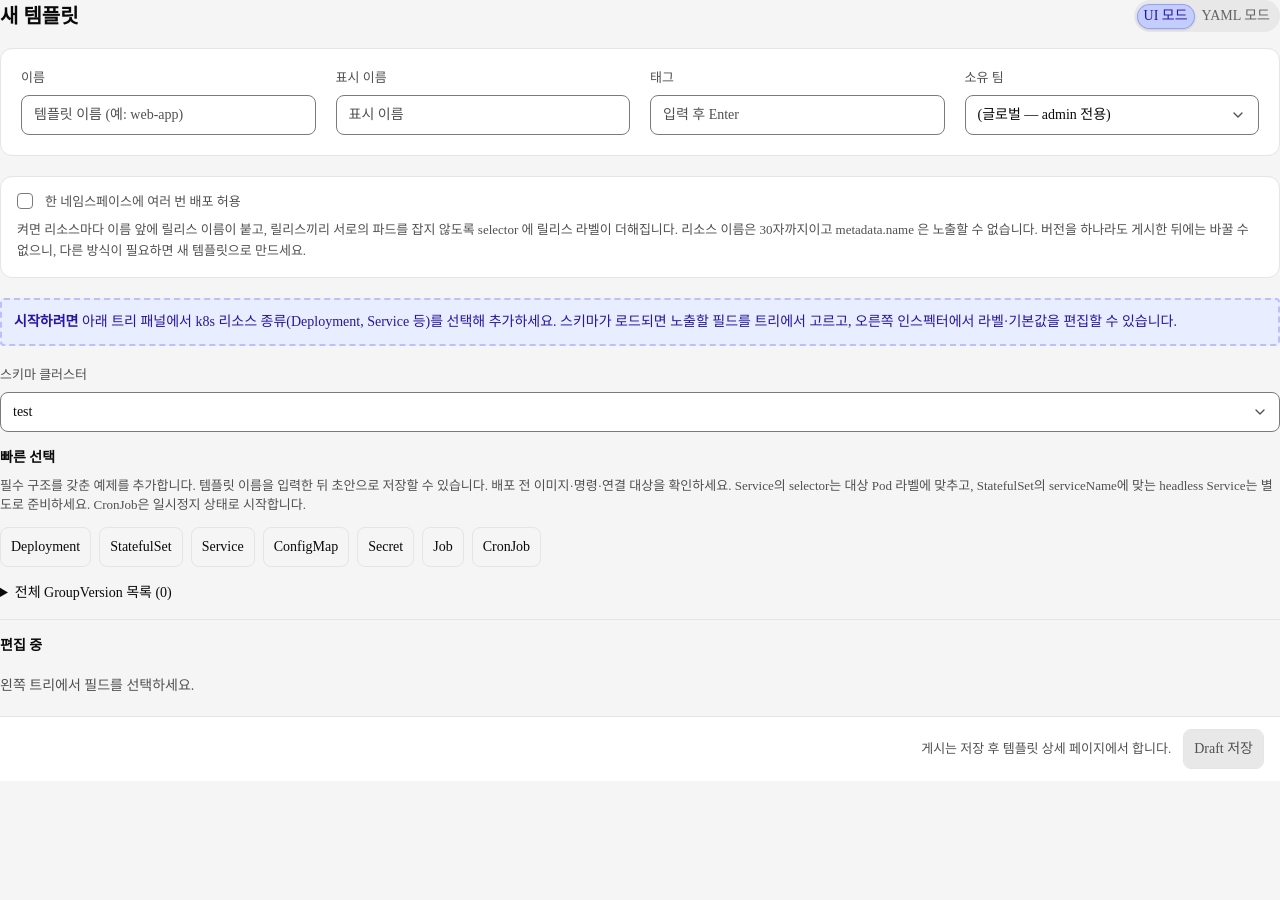
Scenario: removes the selected resource and disables save when empty
Expected: the button "Deployment" is shown, [0, 527, 91, 567]
In the field labelled "이름": (168, 115) [21, 95, 316, 135], type "starter-test"
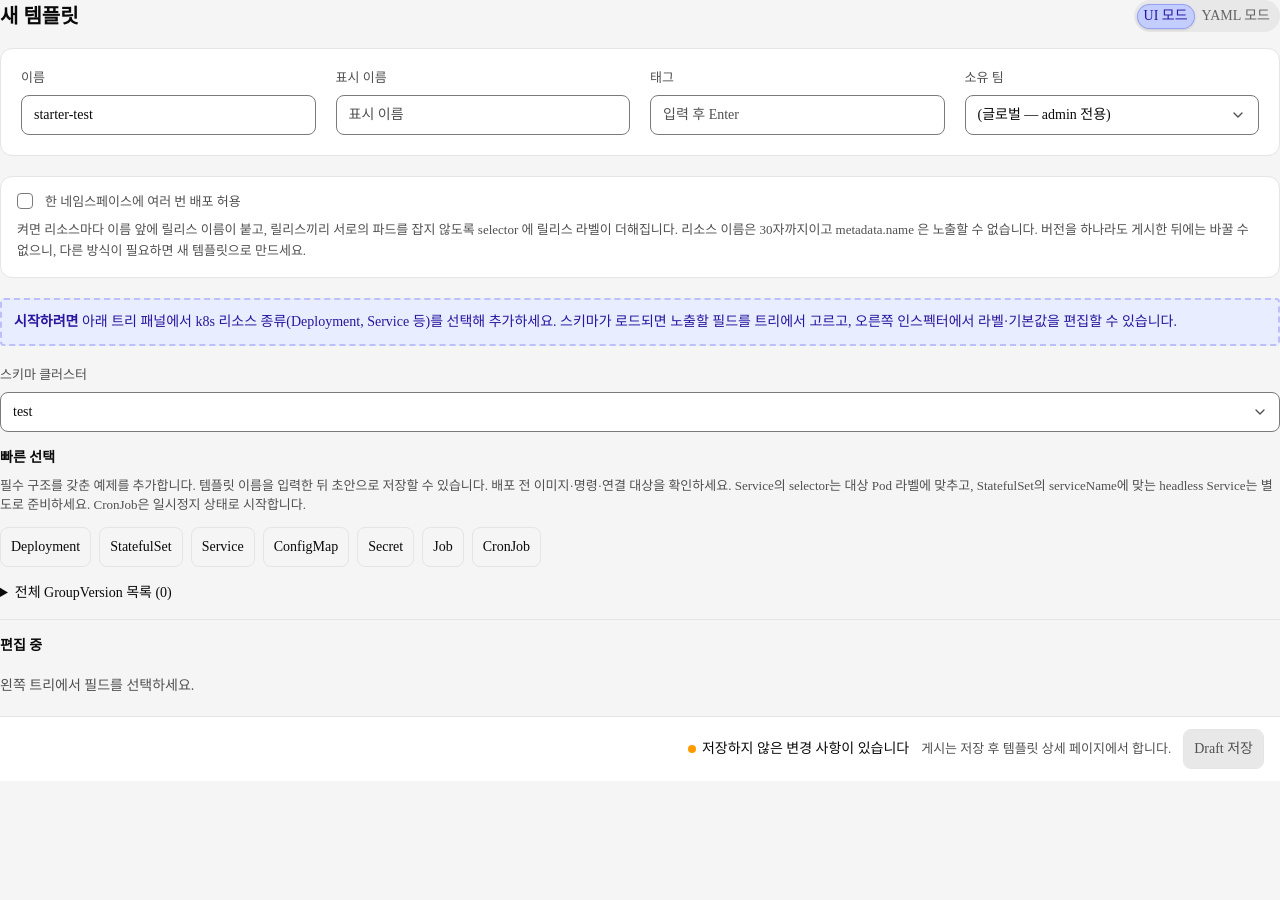
Click the button "Deployment": (46, 547) [0, 527, 91, 567]
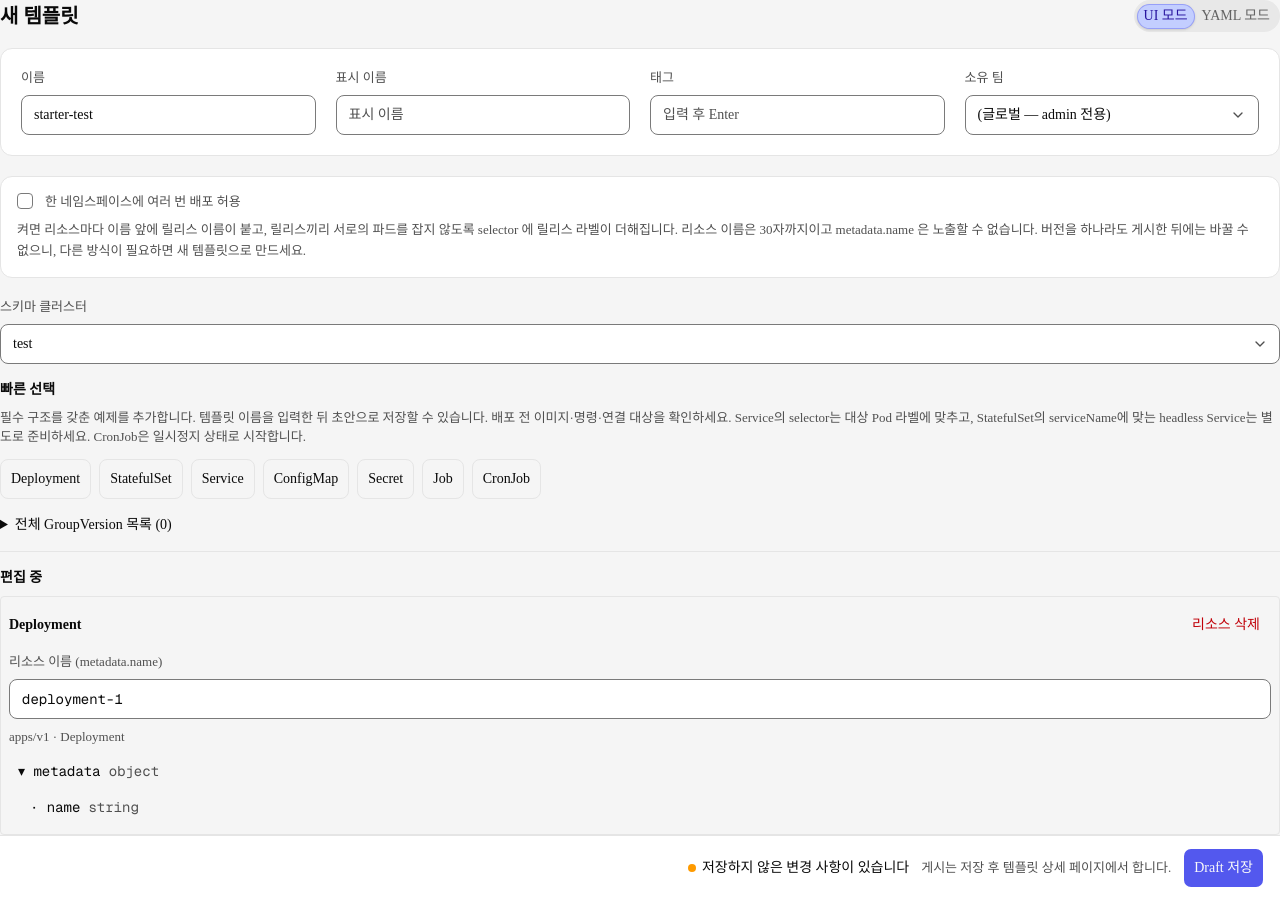
Expected: the button with aria-label "Deployment deployment-1 삭제" is shown, [1181, 605, 1271, 645]
Click the list item "· namestring": (64, 807) [21, 790, 1271, 826]
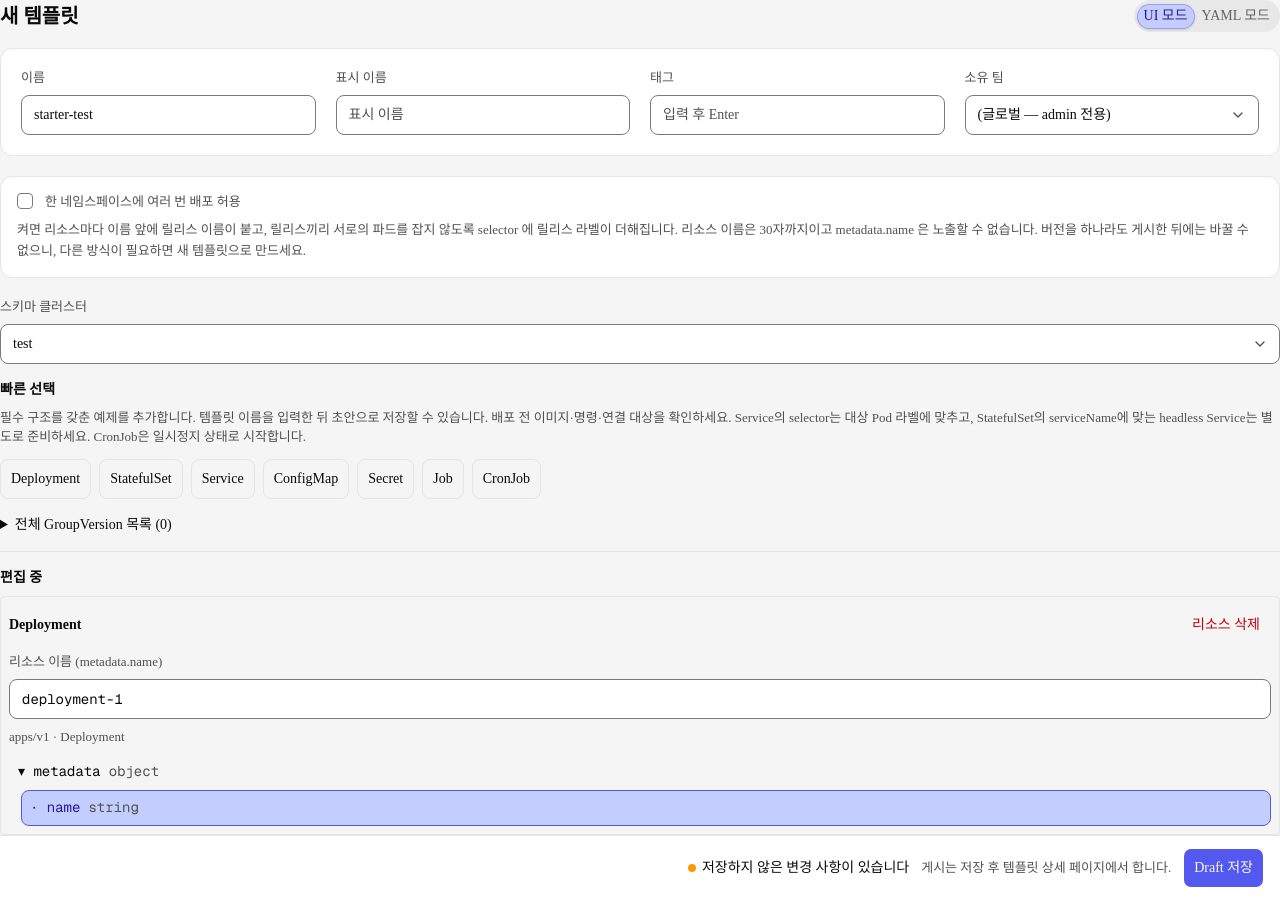
Click the button with aria-label "Deployment deployment-1 삭제": (1226, 625) [1181, 605, 1271, 645]
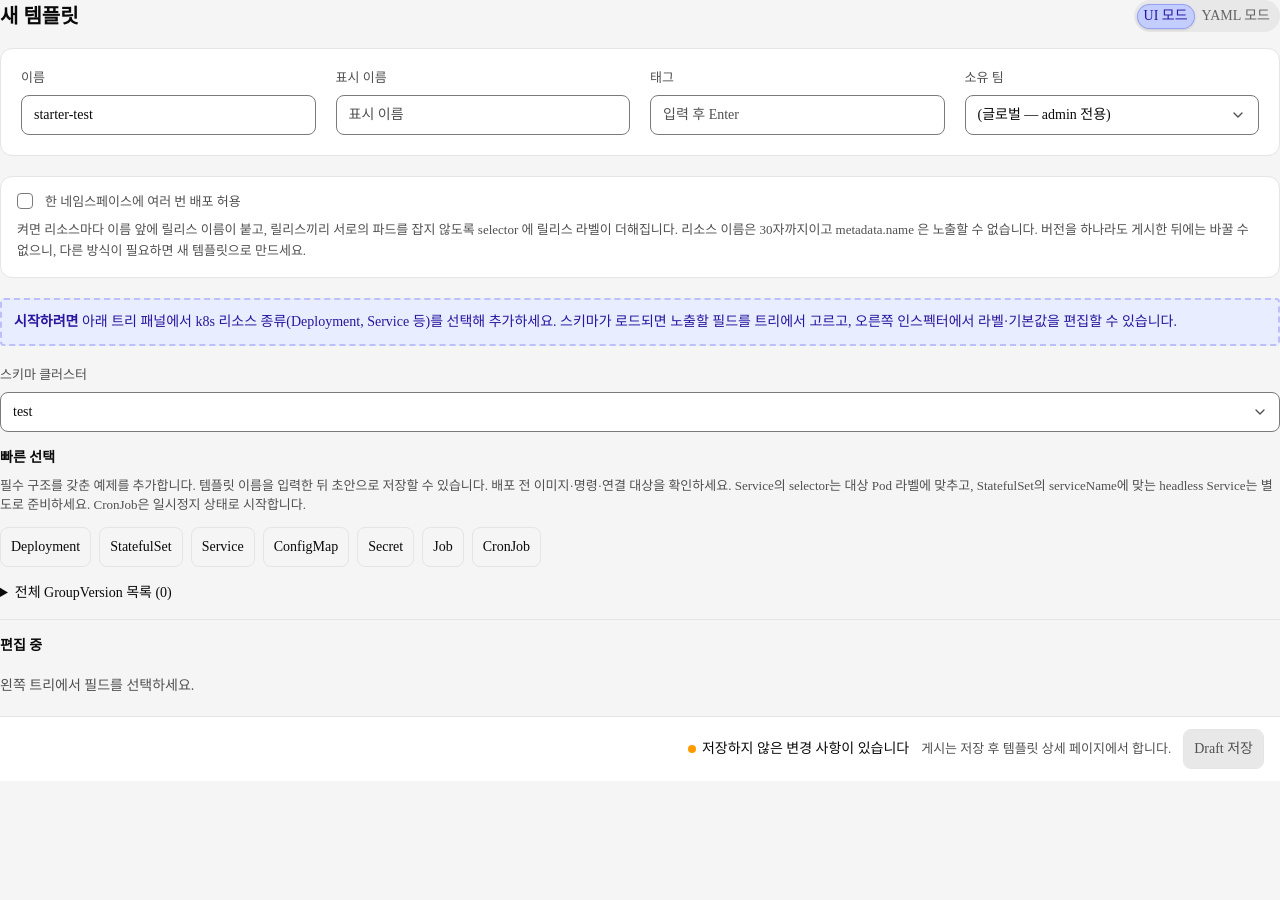
Expected: the text "Deployment[deployment-1].metadata.name" is gone
Expected: the button "Draft 저장" is disabled, [1183, 729, 1264, 769]
